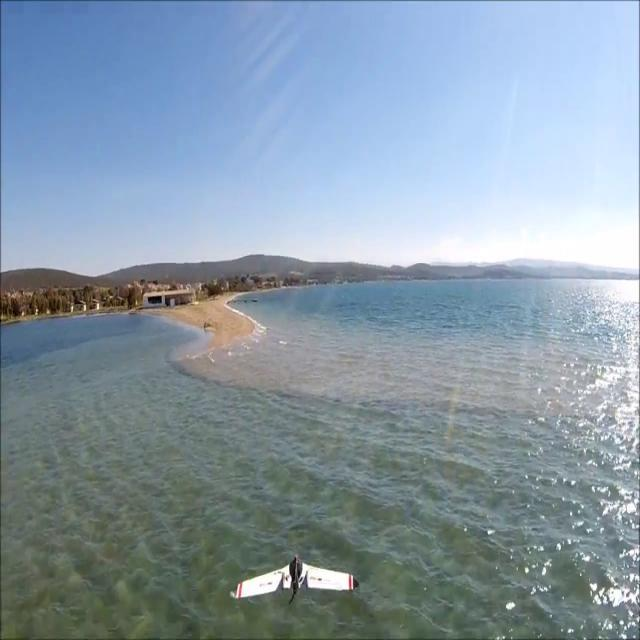iha: (230, 568, 360, 593)
